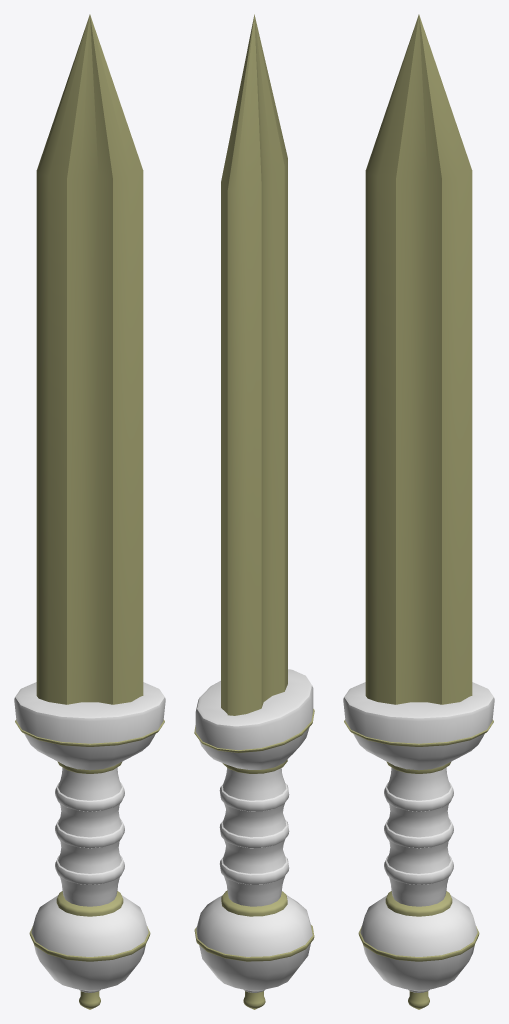
File: romanSword.fbx
3 renders of one model, left to right at view 1: azimuth 90°, elevation 25°; view 2: azimuth 150°, elevation 25°; view 3: azimuth 270°, elevation 25°, orthographic.
Visible parts, largest first — view 1: Sphere; view 2: Sphere; view 3: Sphere.
Boxes of the visible parts, left/top/right/bottom form: Sphere: left=14, top=14, right=165, bottom=1009; Sphere: left=194, top=14, right=314, bottom=1009; Sphere: left=343, top=14, right=494, bottom=1009.
Bounding box in the file's own units: 168 × 1524 × 210.
